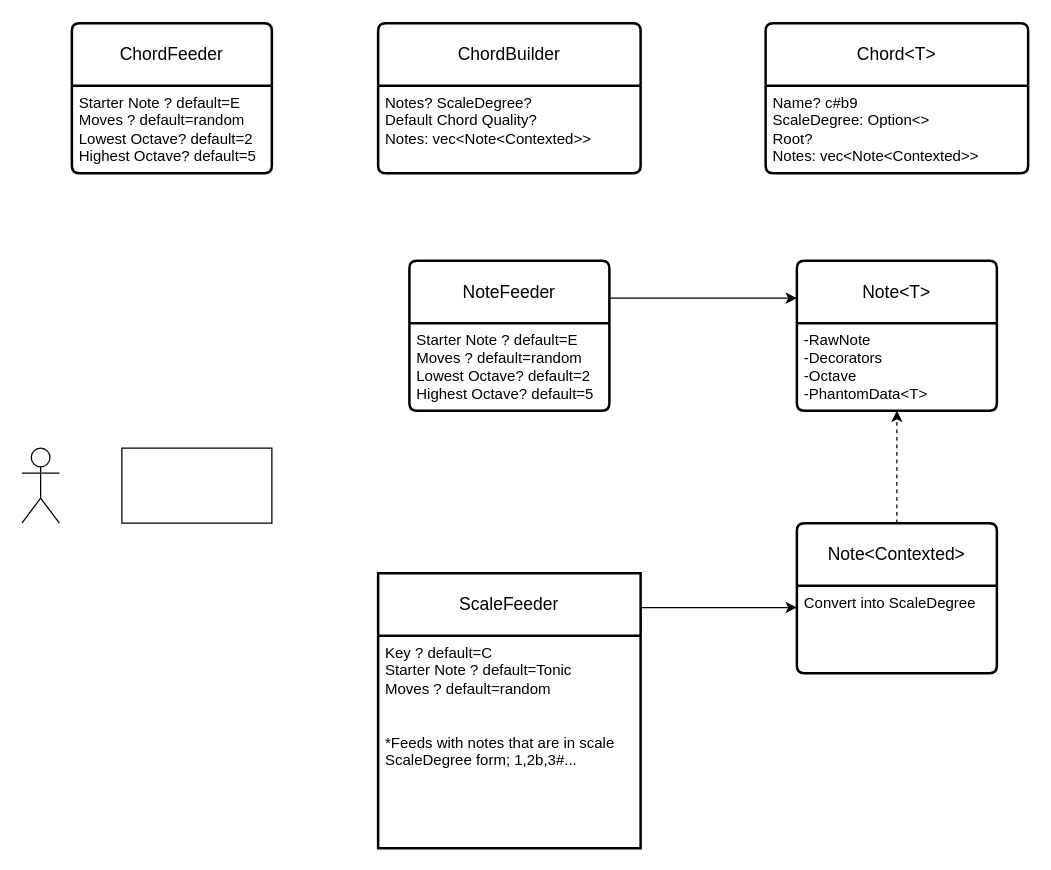
The diagram is 1051 pixels wide and 870 high, and some of its shapes have lost their labels. The shapes that lost their labels are listed below. From the top down, each one's centre as x and y in pixels, then its label:
At pixel 40 485: "User".
At pixel 196 485: "Server".
